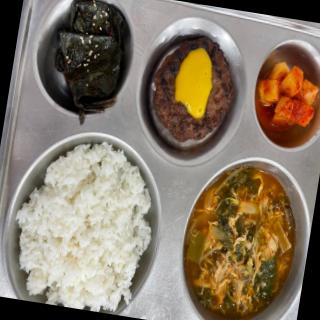Nasi: (3, 138, 172, 320)
